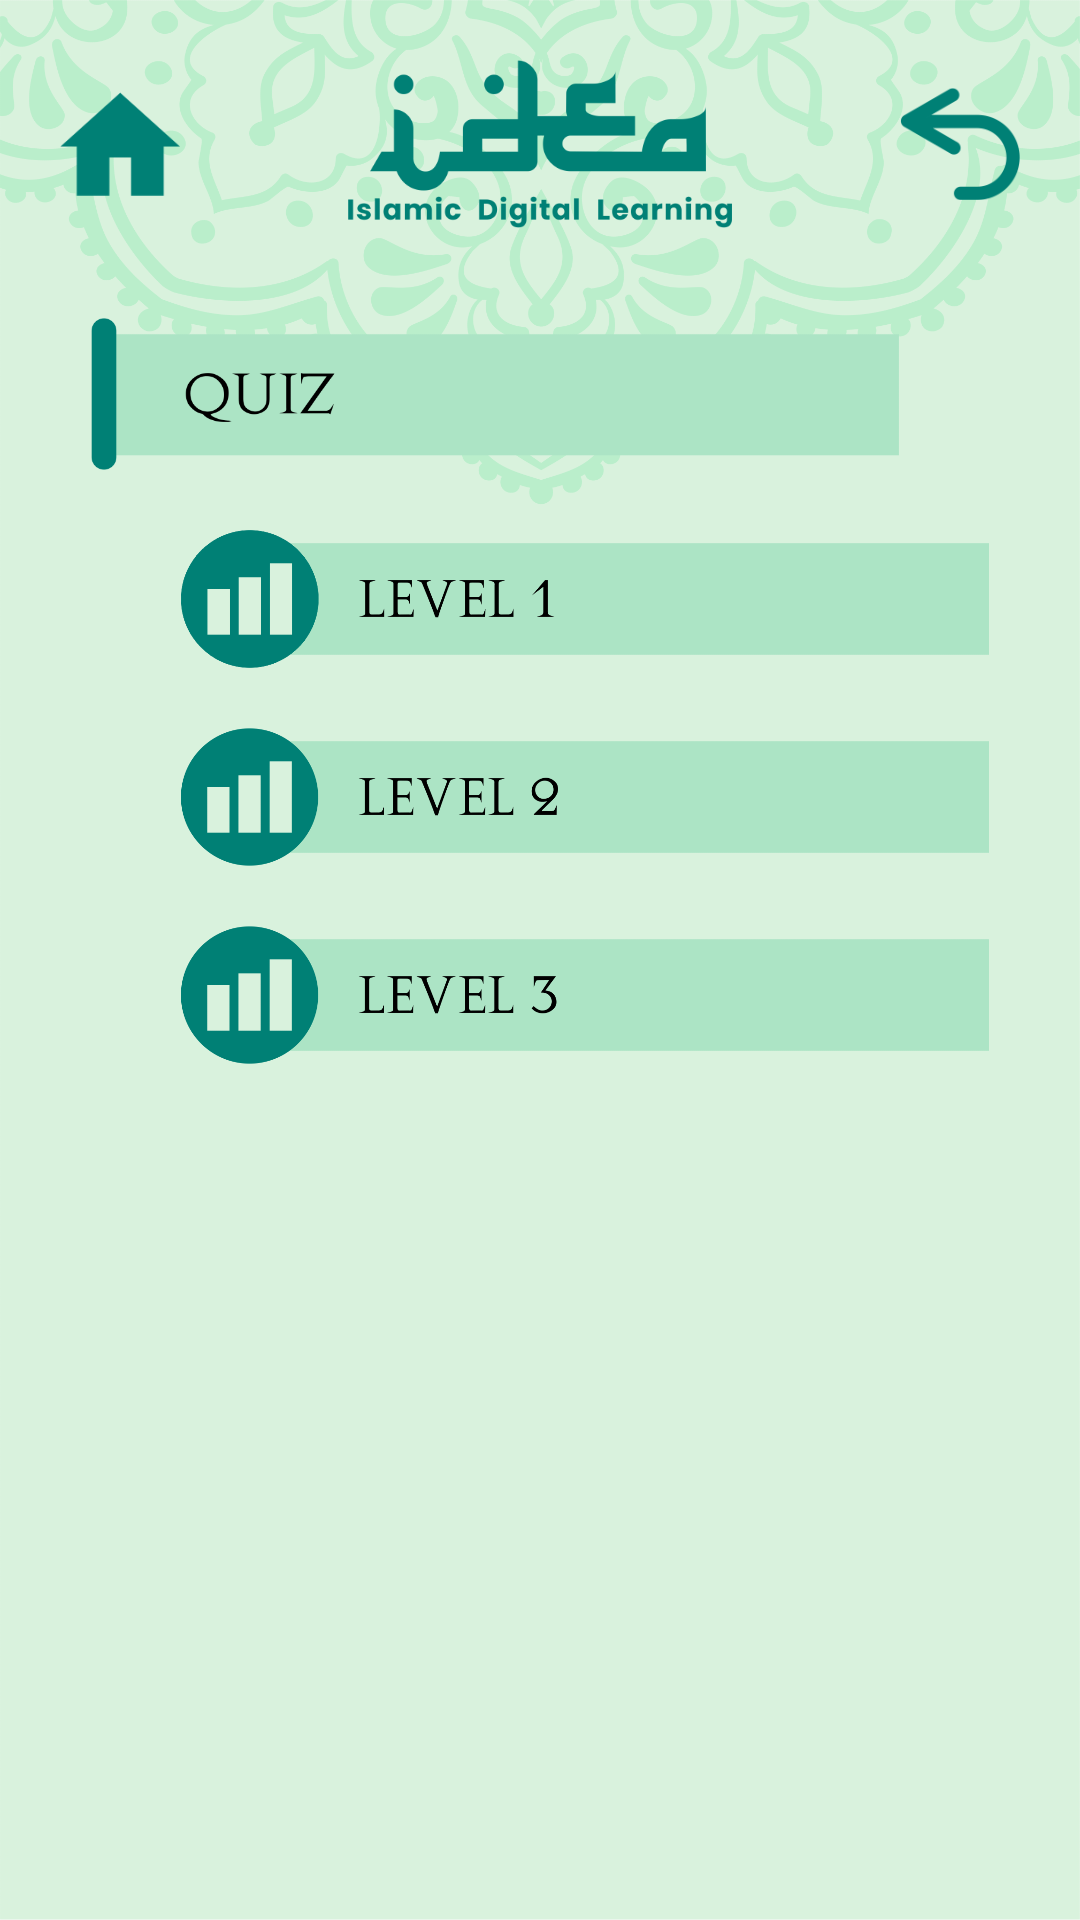

Icon bounding boxes for this 1080px×1920px phone screenshot, format (x1, y1, x2, y2):
back: (900, 84, 1020, 204)
home: (60, 84, 180, 204)
